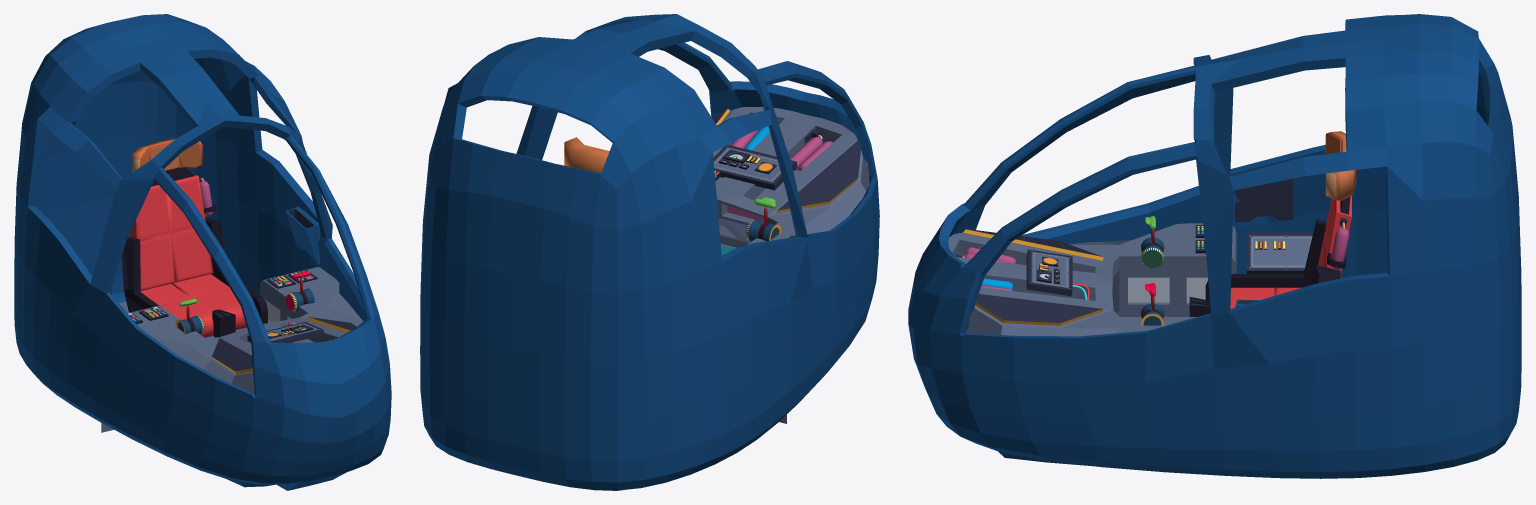
The model's file is cockpit.fbx.
The picture shows the model from 3 angles, left to right: view 1: azimuth 30°, elevation 25°; view 2: azimuth 150°, elevation 25°; view 3: azimuth 270°, elevation 25°; orthographic projection. The views are drawn at different scales.
Parts seen in each view (by area): view 1: Cube, Cube.001, Cube.004, Cube.010, Cube.012, Cube.013, ConolYoke.007; view 2: Cube, Cube.004, Cube.013, Cube.010, ConolYoke.003; view 3: Cube, Cube.004, Cube.001, Cube.037, Cube.011, Cube.013, Cube.010.
Part boxes in pixels (x1=…): Cube: x1=14, y1=14, x2=391, y2=490; Cube.001: x1=121, y1=168, x2=267, y2=337; Cube.004: x1=101, y1=267, x2=363, y2=432; Cube.010: x1=132, y1=138, x2=202, y2=171; Cube.012: x1=285, y1=206, x2=320, y2=264; Cube.013: x1=247, y1=322, x2=323, y2=342; ConolYoke.007: x1=286, y1=288, x2=314, y2=311; Cube: x1=420, y1=14, x2=879, y2=490; Cube.004: x1=713, y1=107, x2=869, y2=423; Cube.013: x1=713, y1=145, x2=797, y2=190; Cube.010: x1=564, y1=137, x2=609, y2=172; ConolYoke.003: x1=746, y1=219, x2=781, y2=241; Cube: x1=908, y1=14, x2=1521, y2=478; Cube.004: x1=948, y1=223, x2=1236, y2=336; Cube.001: x1=1189, y1=196, x2=1351, y2=316; Cube.037: x1=1246, y1=232, x2=1313, y2=273; Cube.011: x1=1235, y1=172, x2=1293, y2=221; Cube.013: x1=1026, y1=249, x2=1072, y2=296; Cube.010: x1=1325, y1=131, x2=1356, y2=201.
Size of the model in its own units: 300 by 377 by 524.
